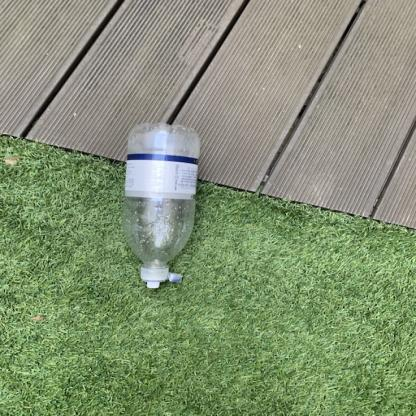trash: (122, 121, 199, 291)
